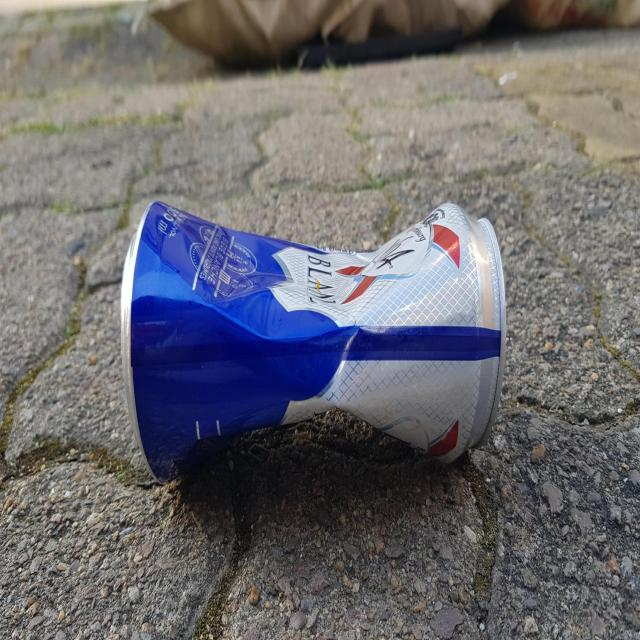can: (120, 200, 507, 479)
